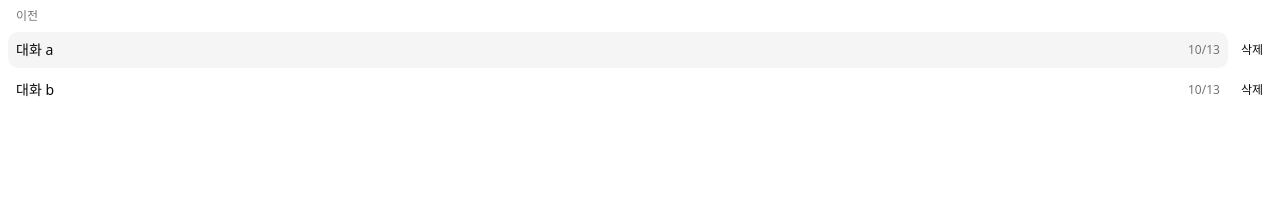
it: conversation_not_found displays the existing message under its item without removal
The width and height of the screenshot is (1280, 224).
Step 1. Click the button "삭제" in the row of "대화 a" → point(1252, 50), box [1232,38,1272,62]
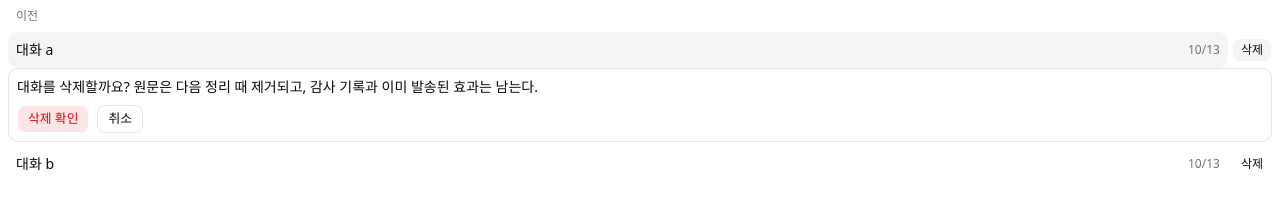
Step 2. Click the button "삭제 확인" → point(53, 119), box [17,105,89,133]
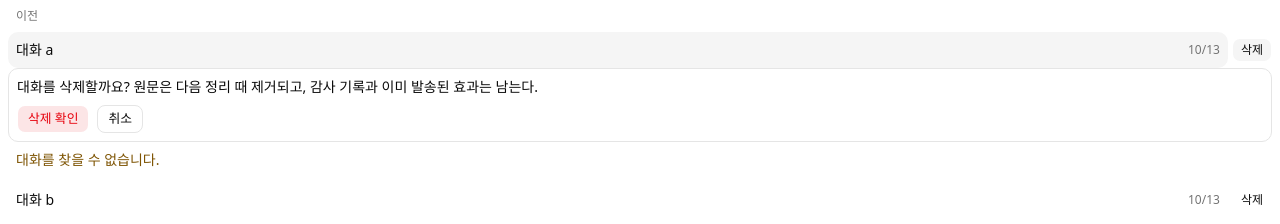
Expected: the message reads "대화를 찾을 수 없습니다.", [16,150,160,169]
